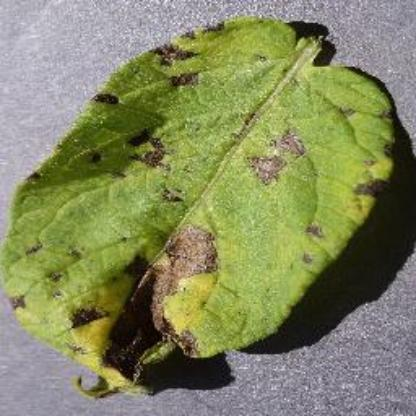Early-Blight: (6, 21, 406, 398)
